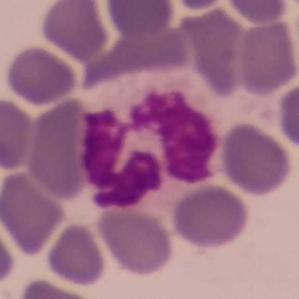Neutrophil: (80, 66, 232, 210)
RBC: (23, 96, 111, 200), (93, 198, 178, 280), (218, 120, 296, 198), (0, 167, 67, 257), (168, 182, 253, 251), (187, 4, 248, 100), (234, 15, 298, 97), (3, 43, 80, 107), (43, 220, 109, 288), (38, 0, 111, 60), (102, 0, 177, 40), (0, 94, 36, 172), (13, 276, 103, 299), (274, 77, 299, 153), (223, 0, 292, 26), (0, 215, 18, 290), (177, 0, 224, 13)
